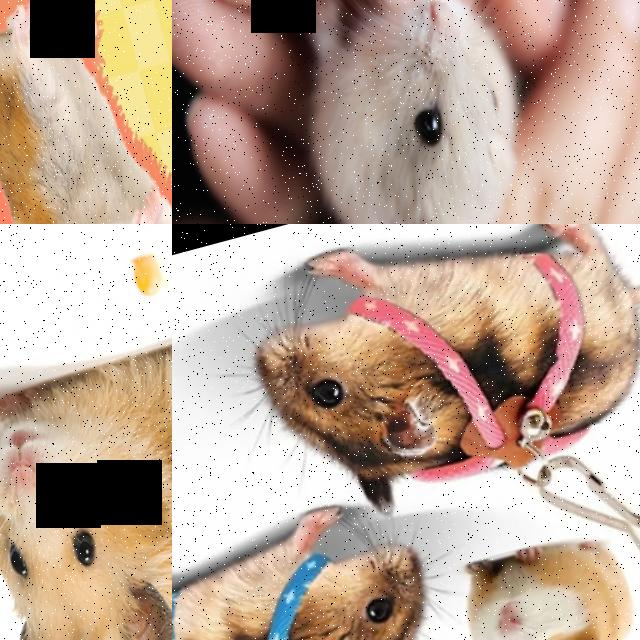hamster: (218, 224, 640, 545), (268, 0, 555, 224), (0, 281, 172, 640), (172, 485, 462, 640), (0, 0, 172, 224)
